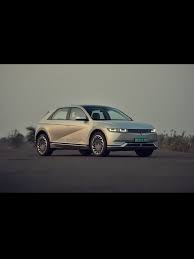Honda Ioniq: (31, 101, 160, 164)
